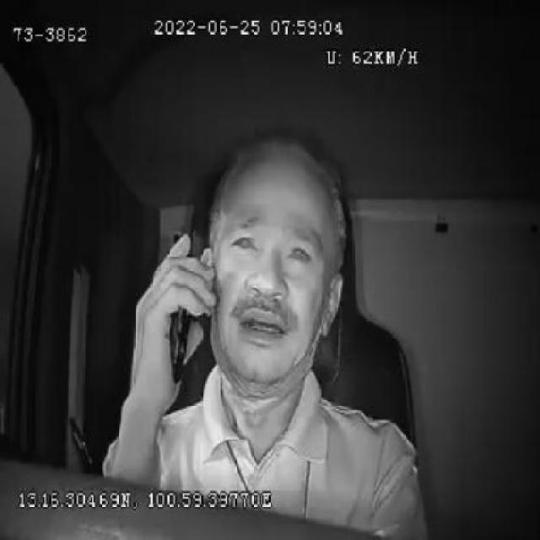phone: (161, 226, 198, 386)
